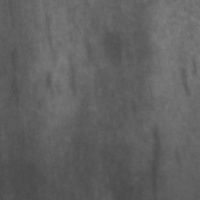inclusion: (32, 10, 69, 104), (138, 121, 171, 199), (3, 39, 33, 121), (175, 59, 196, 107)
